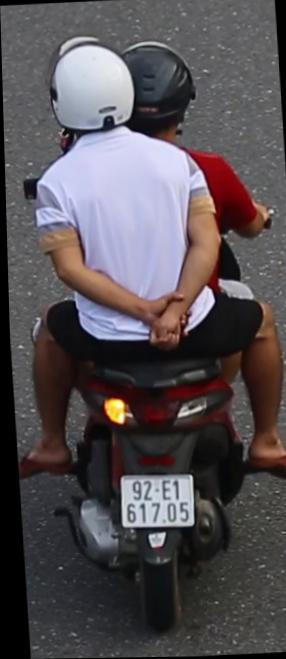LP: (113, 466, 196, 534)
helmet: (45, 34, 138, 144), (118, 32, 198, 137)
